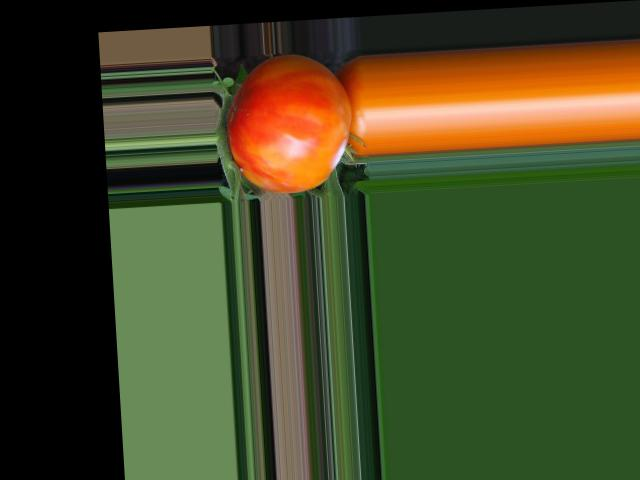tomato: (224, 51, 354, 196)
